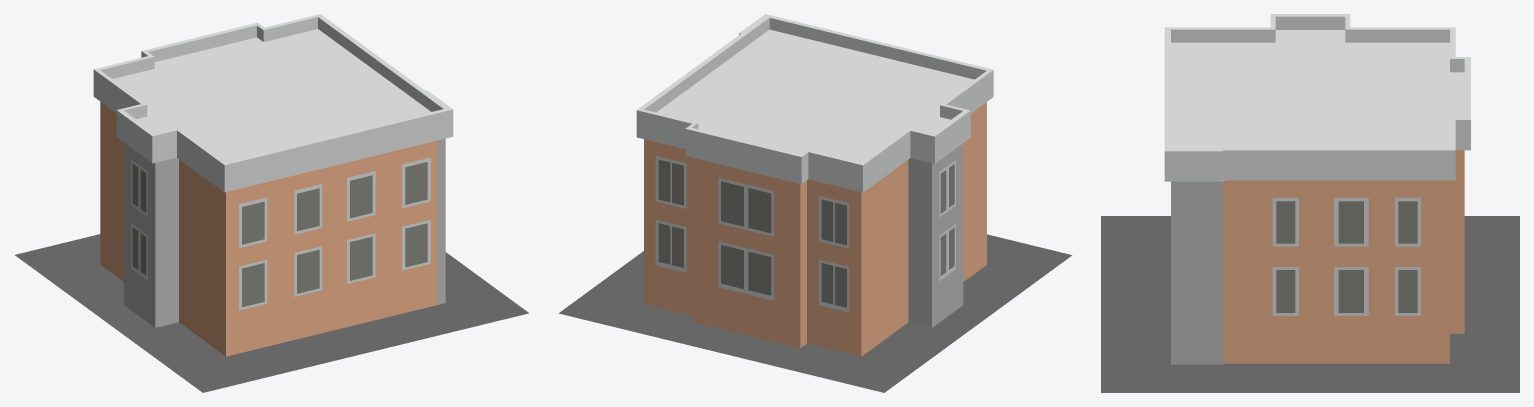
Rendered from Building_1.fbx.
3 views of the same model, side by side, from view 1: azimuth 30°, elevation 25°; view 2: azimuth 150°, elevation 25°; view 3: azimuth 270°, elevation 25° (orthographic). The views are drawn at different scales.
Parts seen in each view (by area): view 1: Building_1; view 2: Building_1; view 3: Building_1.
Boxes of the visible parts, x1,y1,x2,y2 form: Building_1: (15, 14, 528, 392); Building_1: (558, 14, 1072, 392); Building_1: (1101, 14, 1519, 392).
Bounding box in the file's own units: 1 × 0.5691 × 1.
2 materials, 2 textured.
